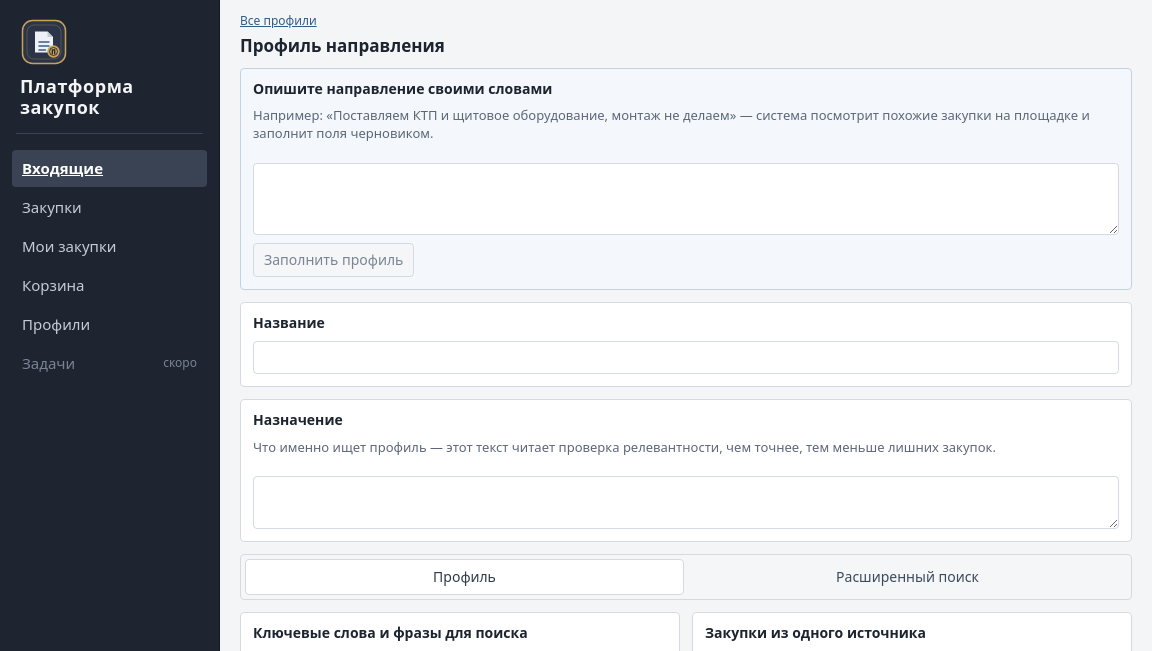
Test case: ProfileApp › shows the suggestion error instead of failing silently
Type "КТП" into the text box labelled "Опишите направление своими словами". click: (686, 199)
box: [253,163,1119,235]
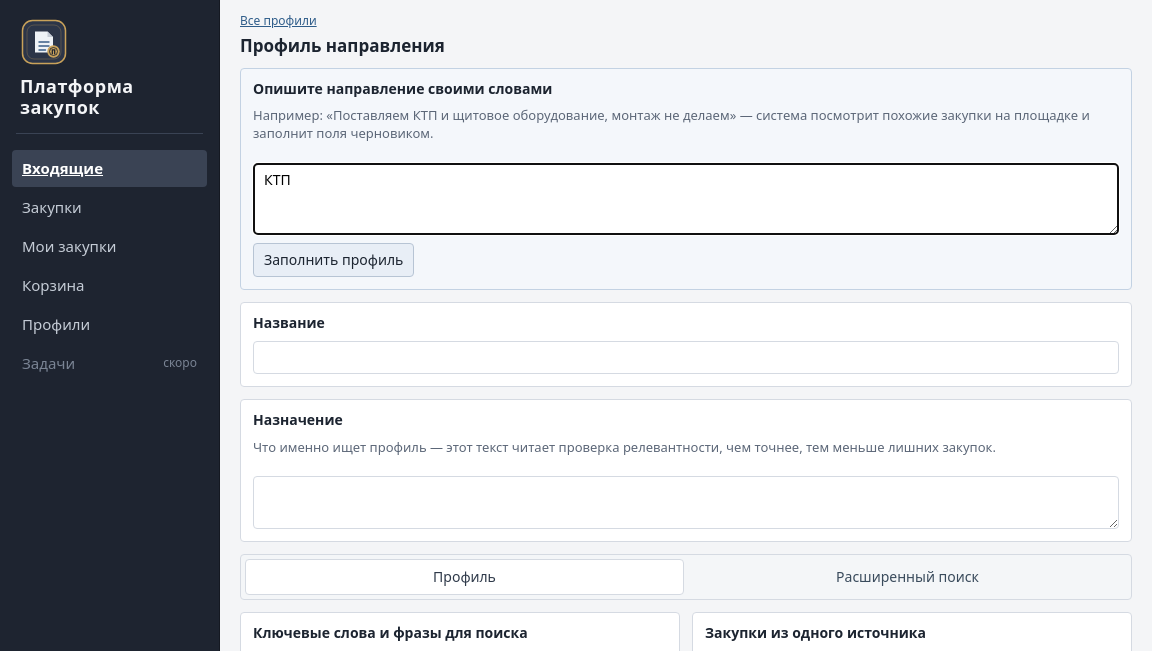
Click the button "Заполнить профиль". click: (334, 260)
box: [253,243,414,277]
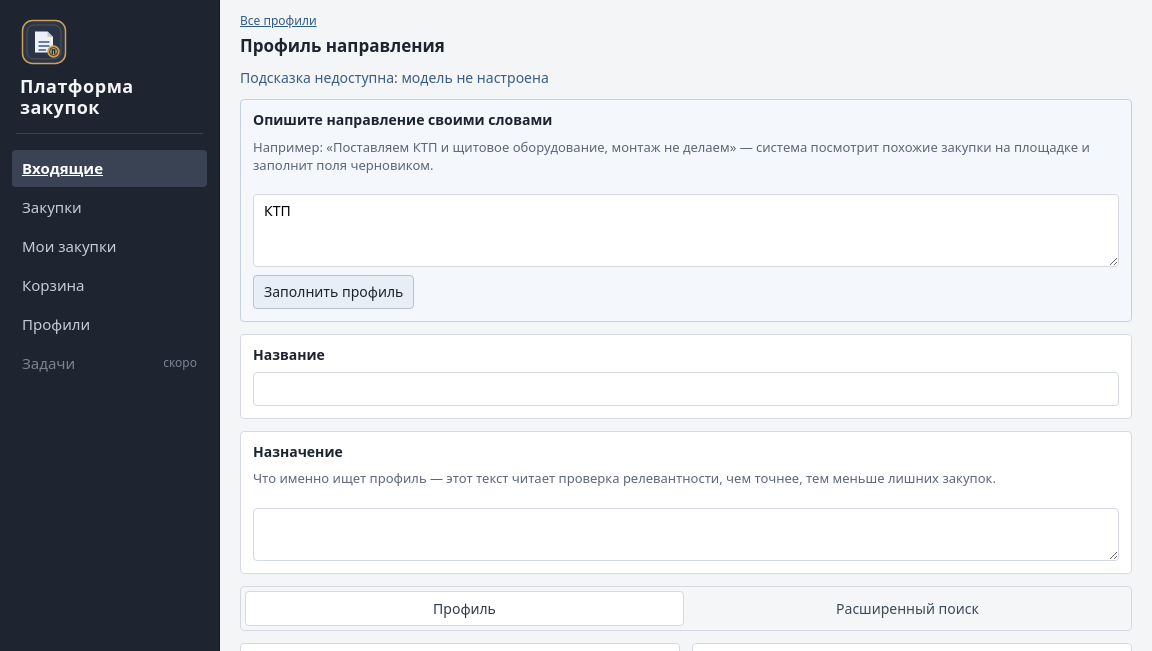
Expected: the text "Подсказка недоступна: модель не настроена" is shown, [240,68,549,87]
